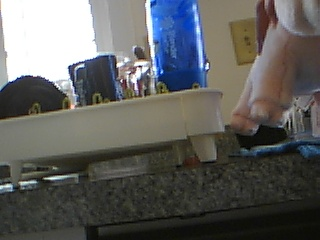piggy: (229, 1, 320, 137)
